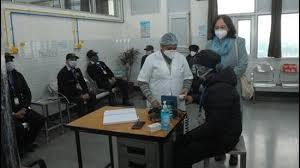sleep: (182, 46, 235, 113)
